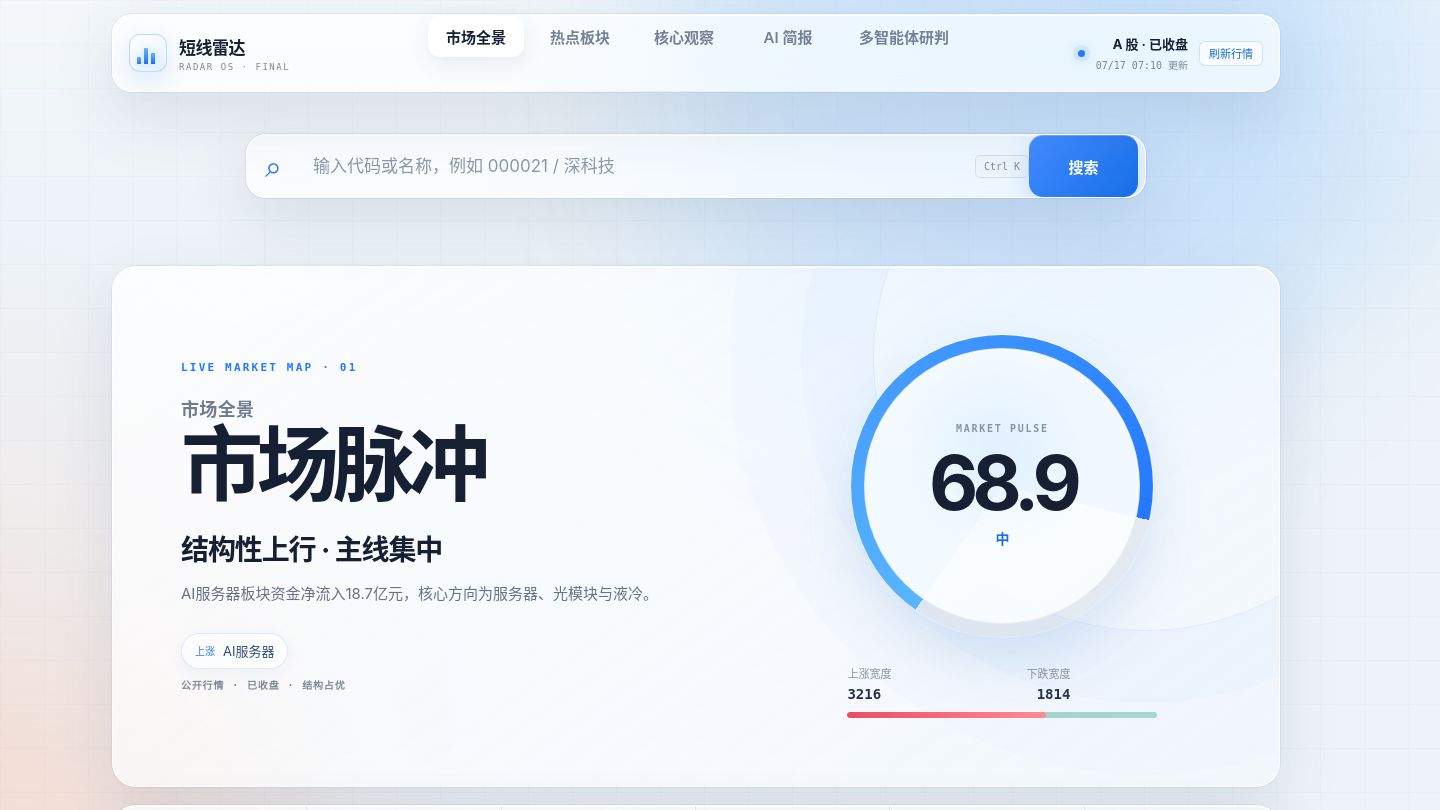
Test: Dashboard › shows the backend error detail instead of a vague unavailable message
The image size is (1440, 810).
Type "000021" into the search field.
click(637, 166); type("000021")  # box x1=299 y1=156 x2=975 y2=176
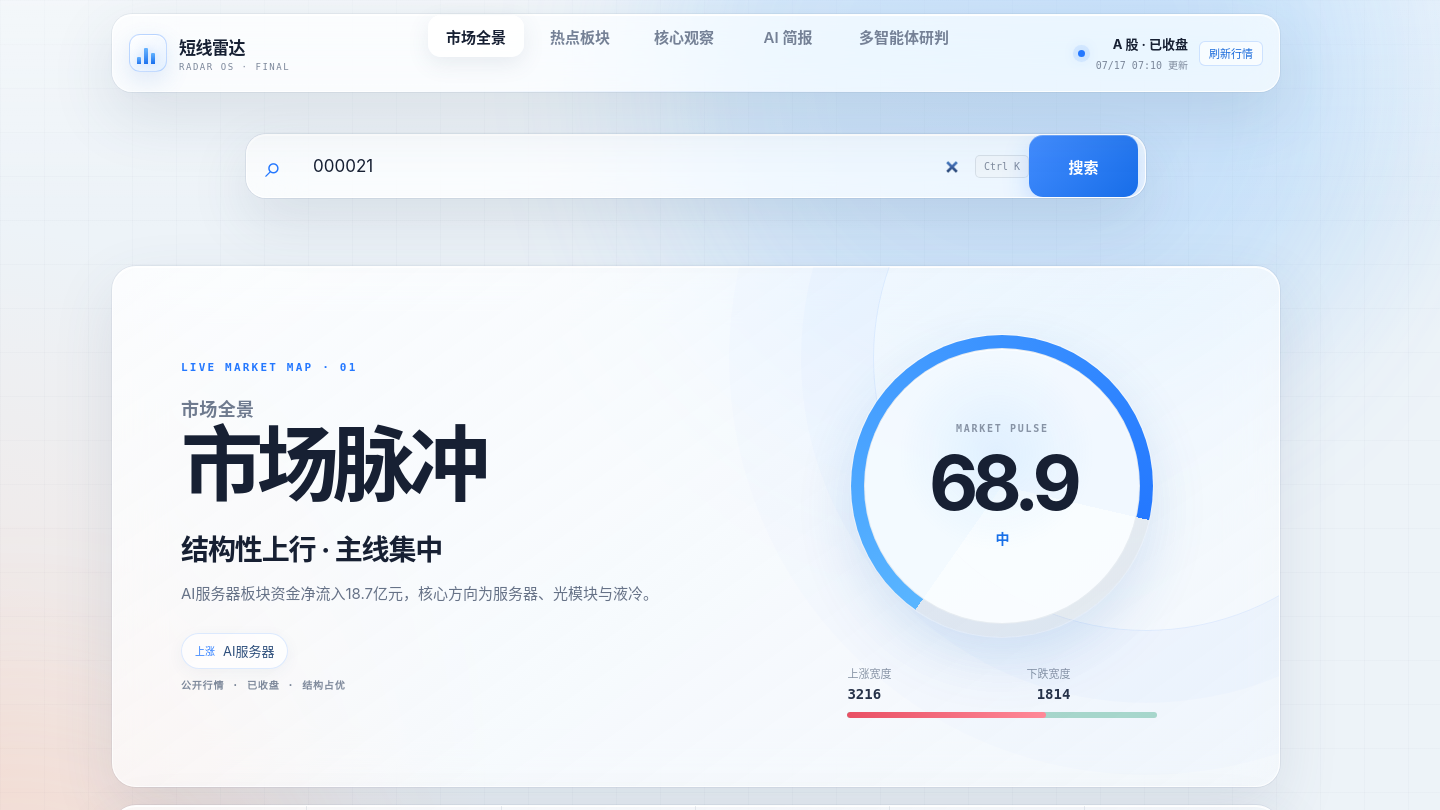
Click the button "搜索".
click(1084, 166)  # box x1=1029 y1=135 x2=1138 y2=197
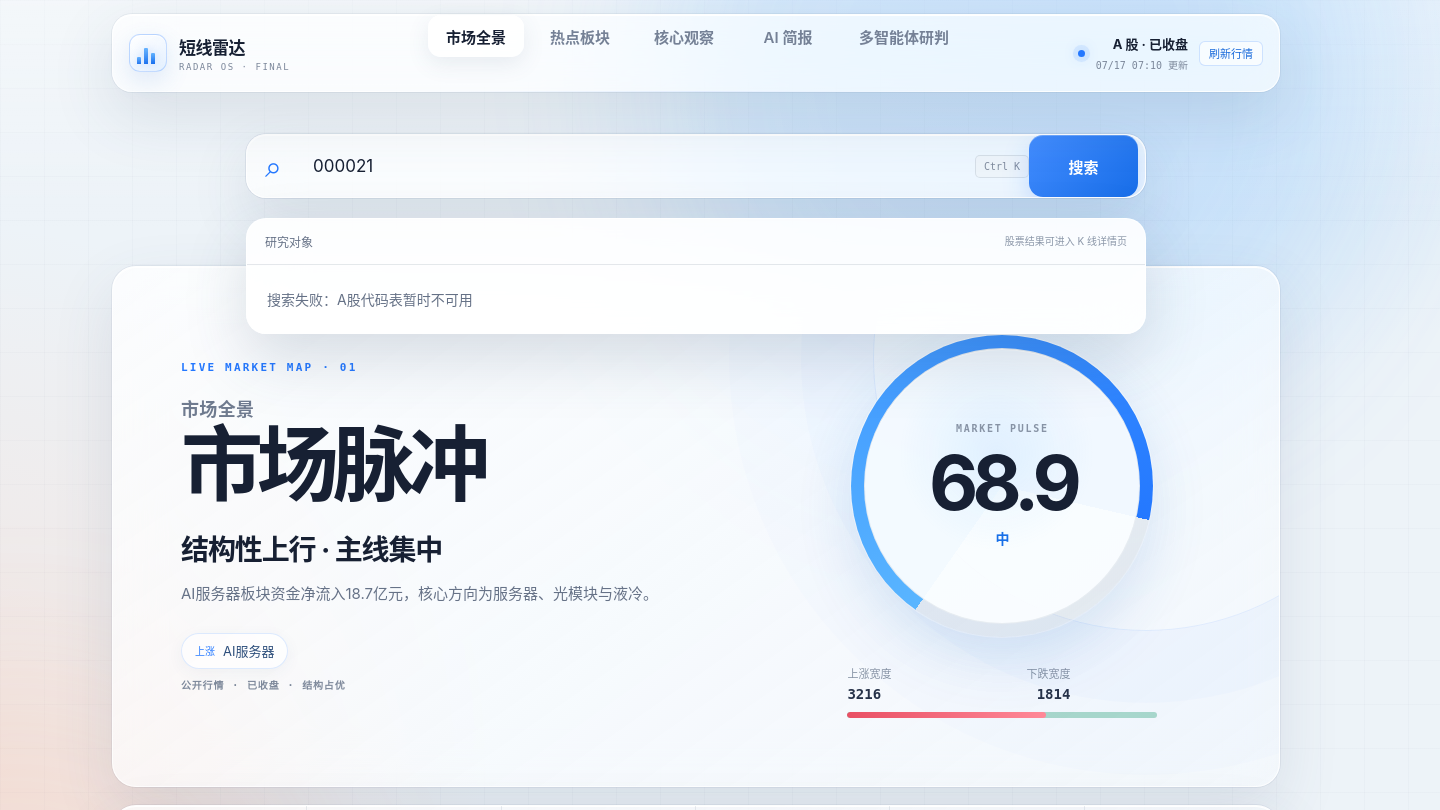
Check: the text "搜索失败：A股代码表暂时不可用" is shown, box x1=267 y1=291 x2=473 y2=308
